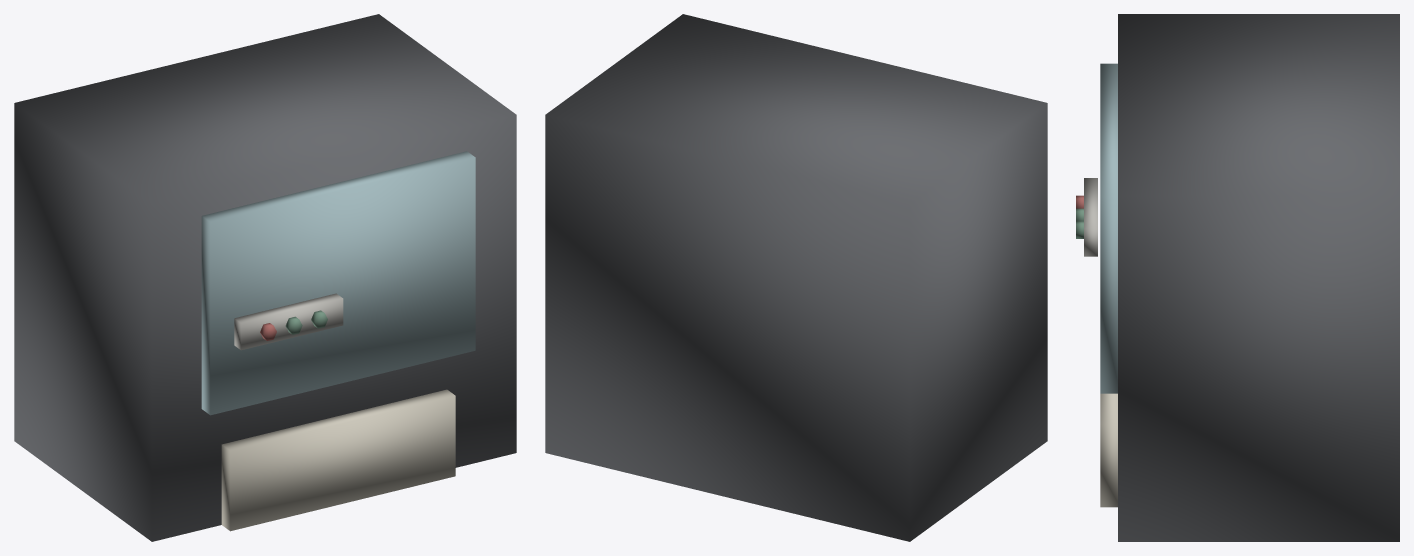
File: terminal_pedestal__tall.glb
The picture shows the model from 3 angles, left to right: view 1: azimuth 30°, elevation 25°; view 2: azimuth 150°, elevation 25°; view 3: azimuth 270°, elevation 25°; orthographic projection. The views are drawn at different scales.
Parts seen in each view (by area): view 1: world; view 2: world; view 3: world.
Boxes of the visible parts, x1=… form: world: x1=14, y1=14, x2=516, y2=541; world: x1=545, y1=14, x2=1047, y2=541; world: x1=1076, y1=14, x2=1399, y2=541.
Bounding box in the file's own units: 0.55 × 0.4872 × 0.4135.
